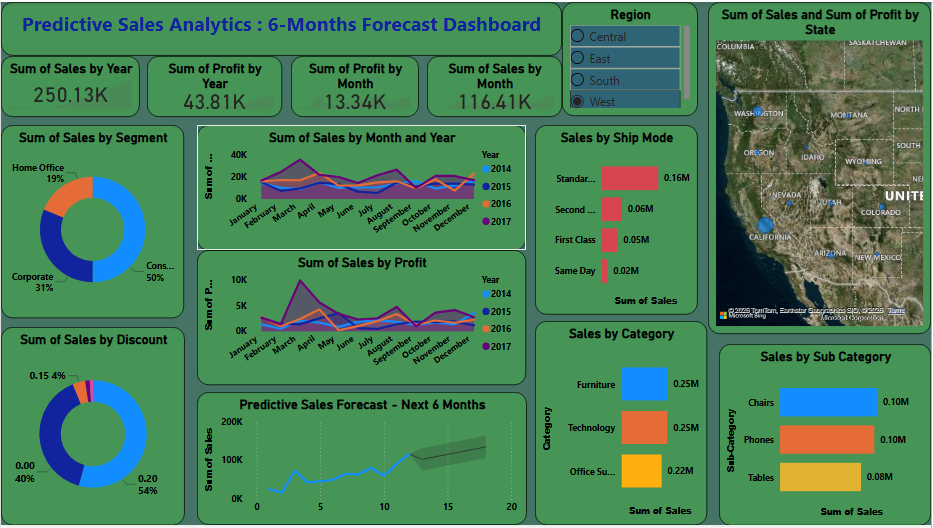

What the dashboard file says about the page in this screenshot:
{"tool":"powerbi","page":{"name":"Page 1","canvas":[1280,720],"ordinal":0},"visuals":[{"type":"clusteredBarChart","title":"Sales by Category","fields":{"Category":["Superstore_Cleaned.Category"],"Y":["Sum(Superstore_Cleaned.Sales)"]},"box":[735.6,439.4,236.7,280.6],"z":0},{"type":"clusteredBarChart","title":"Sales by Sub Category","fields":{"Category":["Superstore_Cleaned.Sub-Category"],"Y":["Sum(Superstore_Cleaned.Sales)"]},"box":[987.7,470.3,292.3,250.3],"z":1000},{"type":"clusteredBarChart","title":"Sales by Ship Mode","fields":{"Category":["Superstore_Cleaned.Ship Mode"],"Y":["Sum(Superstore_Cleaned.Sales)"]},"box":[735.6,168.7,223.9,260.8],"z":2000},{"type":"areaChart","fields":{"Y":["Sum(Superstore_Cleaned.Sales)"],"Category":["Superstore_Cleaned.Order Date.Variation.Date Hierarchy.Month","Superstore_Cleaned.Order Date.Variation.Date Hierarchy.Day"],"Series":["Superstore_Cleaned.Year"]},"box":[269.7,169,452.9,172.9],"z":3000},{"type":"areaChart","title":"Sum of Sales by Profit","fields":{"Category":["Superstore_Cleaned.Order Date.Variation.Date Hierarchy.Month","Superstore_Cleaned.Order Date.Variation.Date Hierarchy.Day"],"Series":["Superstore_Cleaned.Year"],"Y":["Sum(Superstore_Cleaned.Profit)"]},"box":[269.7,341.9,452.9,185.8],"z":4000},{"type":"map","fields":{"Category":["Superstore_Cleaned.State"],"Size":["Sum(Superstore_Cleaned.Sales)"]},"box":[972.6,0,307.4,456.9],"z":5000},{"type":"donutChart","fields":{"Category":["Superstore_Cleaned.Segment"],"Y":["Sum(Superstore_Cleaned.Sales)"]},"box":[0,168.7,252.3,266.5],"z":6000},{"type":"donutChart","fields":{"Y":["Sum(Superstore_Cleaned.Sales)"],"Category":["Superstore_Cleaned.Discount"]},"box":[0,446.7,253.3,273.3],"z":7000},{"type":"listSlicer","fields":{"Values":["Superstore_Cleaned.Region"]},"box":[772.4,0,187.1,157.3],"z":8000},{"type":"textbox","box":[0,0,772.4,73.7],"z":9000},{"type":"kpi","fields":{"Indicator":["Sum(Superstore_Cleaned.Sales)"],"TrendLine":["Superstore_Cleaned.Year"]},"box":[0,73.7,191.3,83.6],"z":10000},{"type":"kpi","fields":{"Indicator":["Sum(Superstore_Cleaned.Profit)"],"TrendLine":["Superstore_Cleaned.Year"]},"box":[201.3,73.7,185.7,83.6],"z":11000},{"type":"kpi","fields":{"Indicator":["Sum(Superstore_Cleaned.Profit)"],"TrendLine":["Superstore_Cleaned.Month"]},"box":[399.7,73.7,175.7,83.6],"z":12000},{"type":"kpi","fields":{"TrendLine":["Superstore_Cleaned.Month"],"Indicator":["Sum(Superstore_Cleaned.Sales)"]},"box":[586.8,73.7,185.7,83.6],"z":13000},{"type":"lineChart","title":"Predictive Sales Forecast - Next 6 Months","fields":{"Y":["Sum(Superstore_Cleaned.Sales)"],"Category":["Superstore_Cleaned.Month"]},"box":[269.3,537.2,453.5,182.8],"z":14000}]}

Visuals, with their boxes in screenshot pixels (x1, y1, x2, y2), scaled from the page's 1280x720 canvas onto the 933x528 screenshot:
"Sales by Category" clusteredBarChart: 536,322,709,527
"Sales by Sub Category" clusteredBarChart: 720,345,932,527
"Sales by Ship Mode" clusteredBarChart: 536,124,699,315
areaChart - Sum(Superstore_Cleaned.Sales) x Superstore_Cleaned.Order Date.Variation.Date Hierarchy.Month: 197,124,527,251
"Sum of Sales by Profit" areaChart: 197,251,527,387
map - Superstore_Cleaned.State x Sum(Superstore_Cleaned.Sales): 709,0,932,335
donutChart - Superstore_Cleaned.Segment x Sum(Superstore_Cleaned.Sales): 0,124,184,319
donutChart - Sum(Superstore_Cleaned.Sales) x Superstore_Cleaned.Discount: 0,328,185,527
listSlicer - Superstore_Cleaned.Region: 563,0,699,115
textbox: 0,0,563,54
kpi - Sum(Superstore_Cleaned.Sales) x Superstore_Cleaned.Year: 0,54,139,115
kpi - Sum(Superstore_Cleaned.Profit) x Superstore_Cleaned.Year: 147,54,282,115
kpi - Sum(Superstore_Cleaned.Profit) x Superstore_Cleaned.Month: 291,54,419,115
kpi - Superstore_Cleaned.Month x Sum(Superstore_Cleaned.Sales): 428,54,563,115
"Predictive Sales Forecast - Next 6 Months" lineChart: 196,394,527,527
